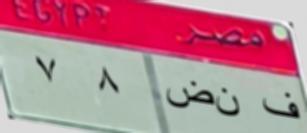7: (33, 53, 62, 84)
8: (95, 64, 121, 102)
daad: (165, 77, 215, 115)
faa: (260, 89, 300, 125)
noon: (215, 85, 242, 123)
